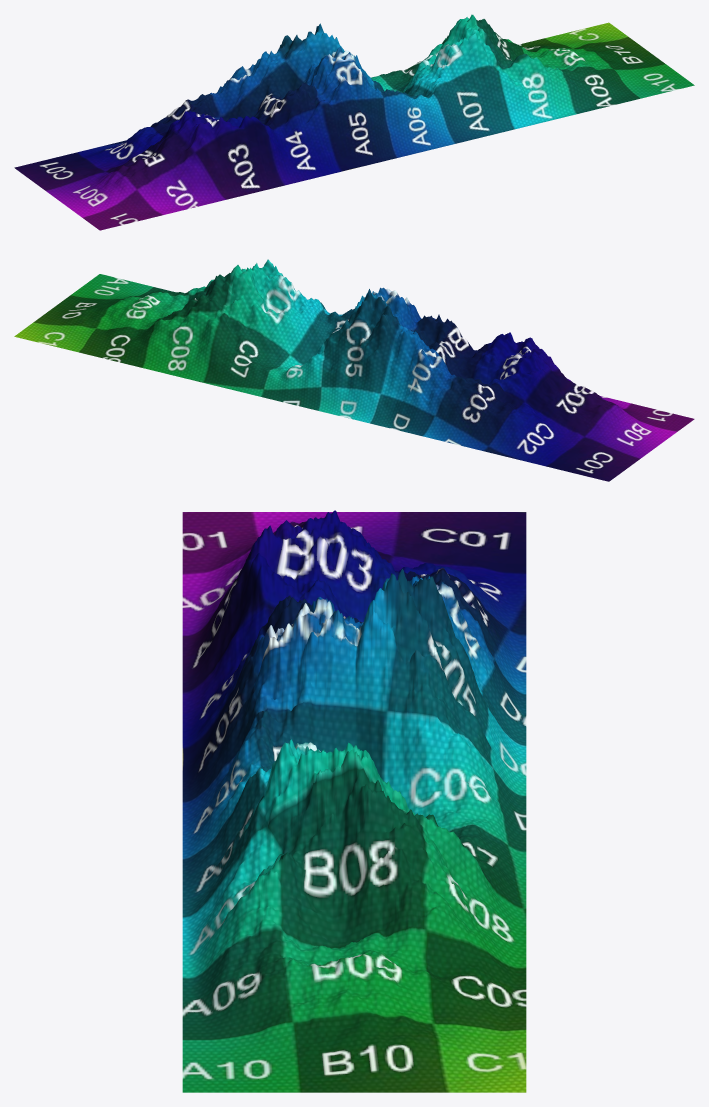
The model's file is landscape1.fbx.
3 views of the same model, one above another, from view 1: azimuth 30°, elevation 25°; view 2: azimuth 150°, elevation 25°; view 3: azimuth 270°, elevation 25° (orthographic). The views are drawn at different scales.
Visible parts, largest first — view 1: Landscape; view 2: Landscape; view 3: Landscape.
Part boxes in pixels (x1=…): Landscape: x1=14, y1=14, x2=694, y2=230; Landscape: x1=14, y1=259, x2=694, y2=481; Landscape: x1=182, y1=510, x2=526, y2=1092.
Bounding box in the file's own units: 800 × 131 × 200.
